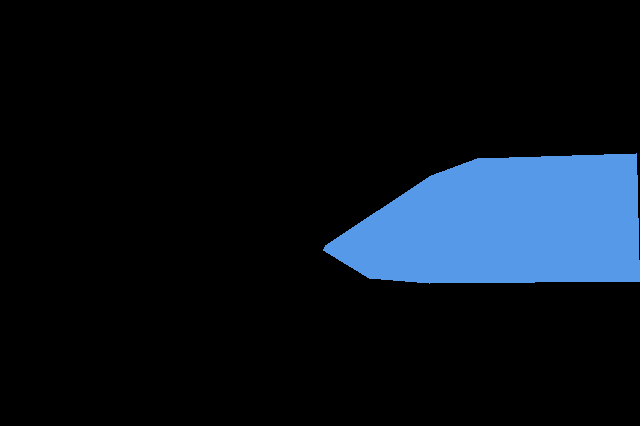Airplane: (323, 153, 640, 283)
